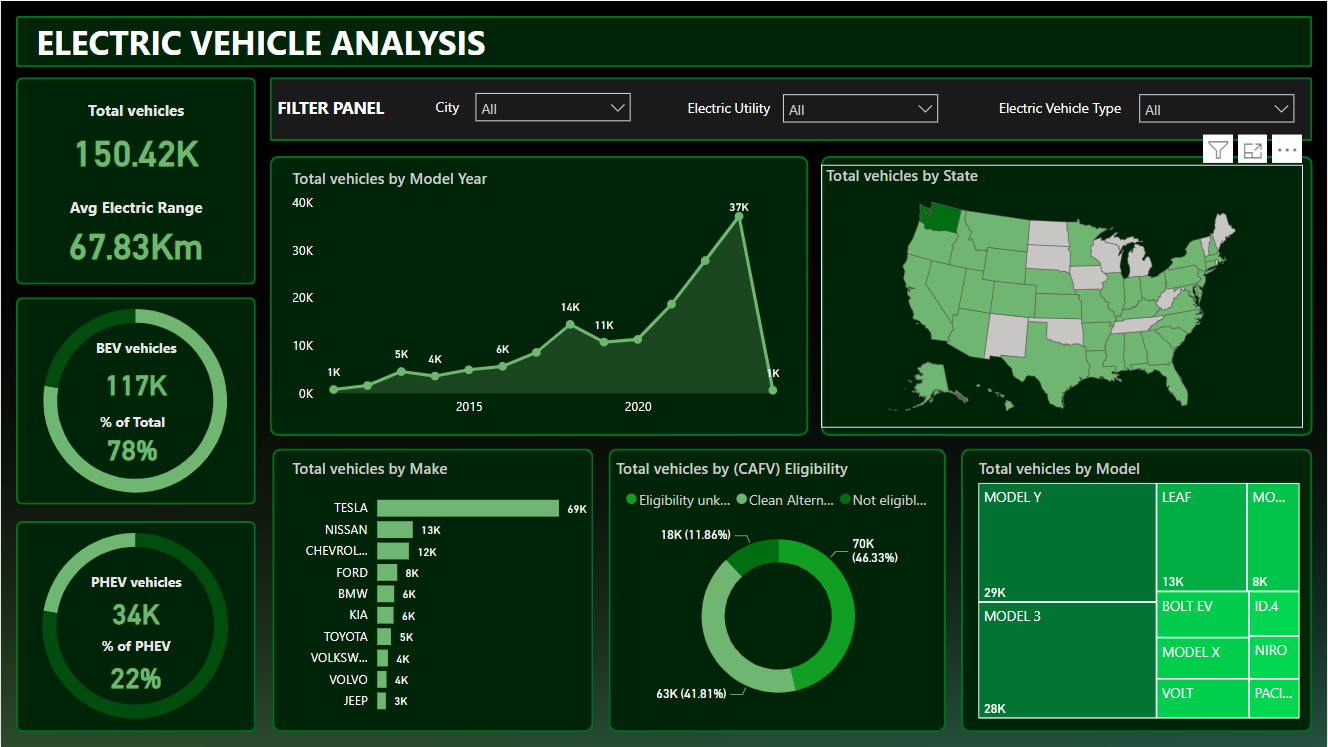

The dashboard page shown, as its layout file describes it:
{"tool":"powerbi","page":{"name":"Page 1","canvas":[1280,720],"ordinal":0},"visuals":[{"type":"shape","box":[14.5,14.5,1250.7,49.4],"z":0},{"type":"shape","box":[14.5,73.6,231.6,200.2],"z":1000},{"type":"textbox","box":[28.9,13.3,460.7,53.1],"z":2000},{"type":"card","title":"Total vehicles","fields":{"Values":["Electric_Vehicle_Population_Data.Total vehicles"]},"box":[33.8,95.3,193,78.4],"z":3000},{"type":"card","title":"Avg Electric Range","fields":{"Values":["Electric_Vehicle_Population_Data.Avg Range"]},"box":[57.9,188.1,144.7,73.6],"z":4000},{"type":"shape","box":[14.5,285.8,231.6,200.2],"z":5000},{"type":"shape","box":[14.5,501.7,231.6,203.8],"z":6000},{"type":"donutChart","fields":{"Category":["Electric_Vehicle_Population_Data.Electric Vehicle Type"],"Y":["Electric_Vehicle_Population_Data.Total vehicles"]},"box":[0,270.2,259.3,231.6],"z":7000},{"type":"card","title":"BEV vehicles","fields":{"Values":["Electric_Vehicle_Population_Data.BEV vehicles"]},"box":[63.9,325.6,132.7,71.2],"z":8000},{"type":"card","title":"% of Total","fields":{"Values":["Electric_Vehicle_Population_Data.% of BEV"]},"box":[73.6,396.8,106.1,53.1],"z":9000},{"type":"donutChart","fields":{"Category":["Electric_Vehicle_Population_Data.Electric Vehicle Type"],"Y":["Electric_Vehicle_Population_Data.Total vehicles"]},"box":[0,486,259.3,234],"z":10000},{"type":"card","title":"PHEV vehicles","fields":{"Values":["Electric_Vehicle_Population_Data.PHEV vehicles"]},"box":[63.9,551.2,132.7,61.5],"z":11000},{"type":"card","title":"% of PHEV","fields":{"Values":["Electric_Vehicle_Population_Data.% of PHEV"]},"box":[63.9,612.7,132.7,61.5],"z":12000},{"type":"shape","box":[259.3,73.6,1005.8,61.5],"z":13000},{"type":"shape","box":[259.1,149.4,519.6,270.1],"z":14000},{"type":"areaChart","fields":{"Category":["Electric_Vehicle_Population_Data.Model Year"],"Y":["Electric_Vehicle_Population_Data.Total vehicles"]},"box":[275.6,160.4,486.7,249.5],"z":15000},{"type":"shape","box":[791.1,149.4,474.4,270.1],"z":16000},{"type":"shapeMap","fields":{"Category":["Electric_Vehicle_Population_Data.State"],"Value":["Electric_Vehicle_Population_Data.Total vehicles"]},"box":[791.1,157.7,466.2,253.6],"z":17000},{"type":"shape","box":[261.7,431.8,309.9,273.8],"z":18000},{"type":"barChart","fields":{"Category":["Electric_Vehicle_Population_Data.Make"],"Y":["Electric_Vehicle_Population_Data.Total vehicles"]},"box":[276.2,440.2,295.5,256.9],"z":19000},{"type":"shape","box":[586.1,431.8,325.6,273.8],"z":20000},{"type":"donutChart","title":"Total vehicles by (CAFV) Eligibility","fields":{"Category":["Electric_Vehicle_Population_Data.Clean Alternative Fuel Vehicle (CAFV) Eligibility"],"Y":["Electric_Vehicle_Population_Data.Total vehicles"]},"box":[588.5,440.2,323.2,256.9],"z":21000},{"type":"shape","box":[926.2,431.8,338.9,273.8],"z":22000},{"type":"treemap","fields":{"Group":["Electric_Vehicle_Population_Data.Model"],"Values":["Electric_Vehicle_Population_Data.Total vehicles"]},"box":[938.3,440.2,319.6,256.9],"z":23000},{"type":"textbox","box":[261.7,86.8,135.1,36.2],"z":24000},{"type":"slicer","fields":{"Values":["Electric_Vehicle_Population_Data.City"]},"box":[447.4,78.4,170.1,49.4],"z":25000},{"type":"textbox","box":[396.8,88,67.5,39.8],"z":26000},{"type":"slicer","fields":{"Values":["Electric_Vehicle_Population_Data.Electric Utility"]},"box":[744.4,79.4,170.1,49.4],"z":27000},{"type":"textbox","box":[657.5,89,102.5,27.7],"z":28000},{"type":"slicer","fields":{"Values":["Electric_Vehicle_Population_Data.Electric Vehicle Type"]},"box":[1087.8,79.6,170.1,49.4],"z":29000},{"type":"textbox","box":[957.6,89.2,143.5,27.7],"z":30000}]}

Visuals, with their boxes in screenshot pixels (x1, y1, x2, y2), scaled from the page's 1280x720 canvas onto the 1328x747 screenshot:
shape: detection(15, 15, 1313, 66)
shape: detection(15, 76, 255, 284)
textbox: detection(30, 14, 508, 69)
"Total vehicles" card: detection(35, 99, 235, 180)
"Avg Electric Range" card: detection(60, 195, 210, 272)
shape: detection(15, 297, 255, 504)
shape: detection(15, 521, 255, 732)
donutChart - Electric_Vehicle_Population_Data.Electric Vehicle Type x Electric_Vehicle_Population_Data.Total vehicles: detection(0, 280, 269, 521)
"BEV vehicles" card: detection(66, 338, 204, 412)
"% of Total" card: detection(76, 412, 186, 467)
donutChart - Electric_Vehicle_Population_Data.Electric Vehicle Type x Electric_Vehicle_Population_Data.Total vehicles: detection(0, 504, 269, 746)
"PHEV vehicles" card: detection(66, 572, 204, 636)
"% of PHEV" card: detection(66, 636, 204, 699)
shape: detection(269, 76, 1313, 140)
shape: detection(269, 155, 808, 435)
areaChart - Electric_Vehicle_Population_Data.Model Year x Electric_Vehicle_Population_Data.Total vehicles: detection(286, 166, 791, 425)
shape: detection(821, 155, 1313, 435)
shapeMap - Electric_Vehicle_Population_Data.State x Electric_Vehicle_Population_Data.Total vehicles: detection(821, 164, 1304, 427)
shape: detection(272, 448, 593, 732)
barChart - Electric_Vehicle_Population_Data.Make x Electric_Vehicle_Population_Data.Total vehicles: detection(287, 457, 593, 723)
shape: detection(608, 448, 946, 732)
"Total vehicles by (CAFV) Eligibility" donutChart: detection(611, 457, 946, 723)
shape: detection(961, 448, 1313, 732)
treemap - Electric_Vehicle_Population_Data.Model x Electric_Vehicle_Population_Data.Total vehicles: detection(973, 457, 1305, 723)
textbox: detection(272, 90, 412, 128)
slicer - Electric_Vehicle_Population_Data.City: detection(464, 81, 641, 133)
textbox: detection(412, 91, 482, 133)
slicer - Electric_Vehicle_Population_Data.Electric Utility: detection(772, 82, 949, 134)
textbox: detection(682, 92, 789, 121)
slicer - Electric_Vehicle_Population_Data.Electric Vehicle Type: detection(1129, 83, 1305, 134)
textbox: detection(994, 93, 1142, 121)
